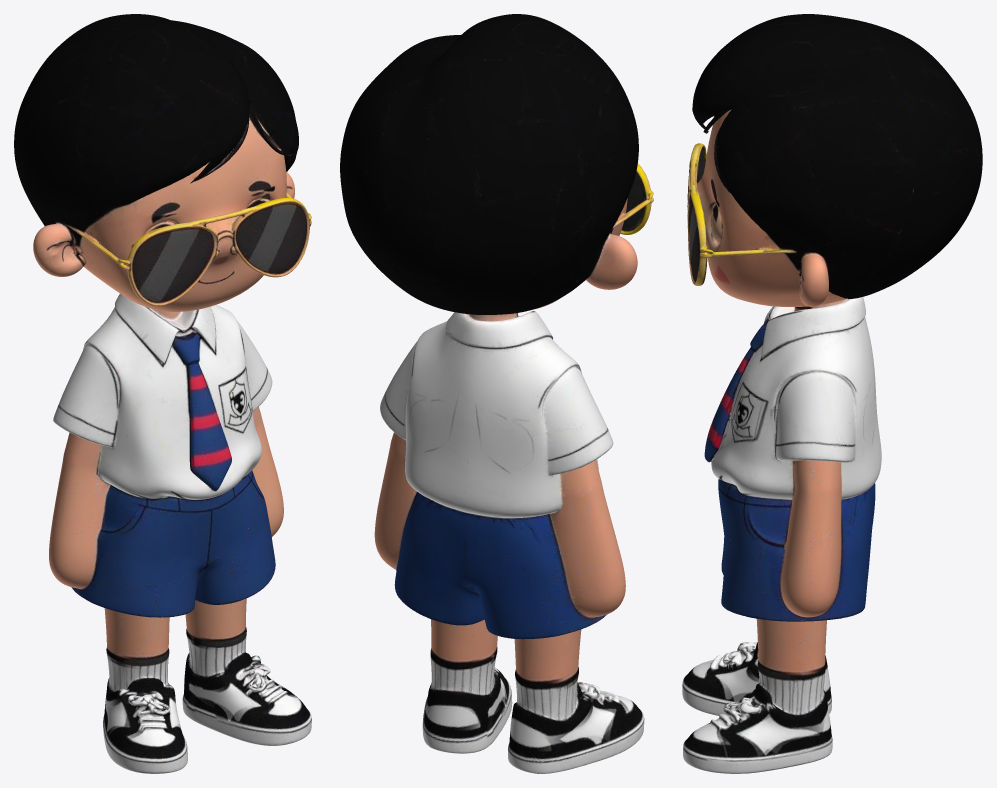
The model's file is carlo-cool-glasses.glb.
3 views of the same model, side by side, from view 1: azimuth 30°, elevation 25°; view 2: azimuth 150°, elevation 25°; view 3: azimuth 270°, elevation 25° (orthographic). The views are drawn at different scales.
Bounding box in the file's own units: 0.7458 × 1.9 × 0.7352.
1 material, 1 textured.
